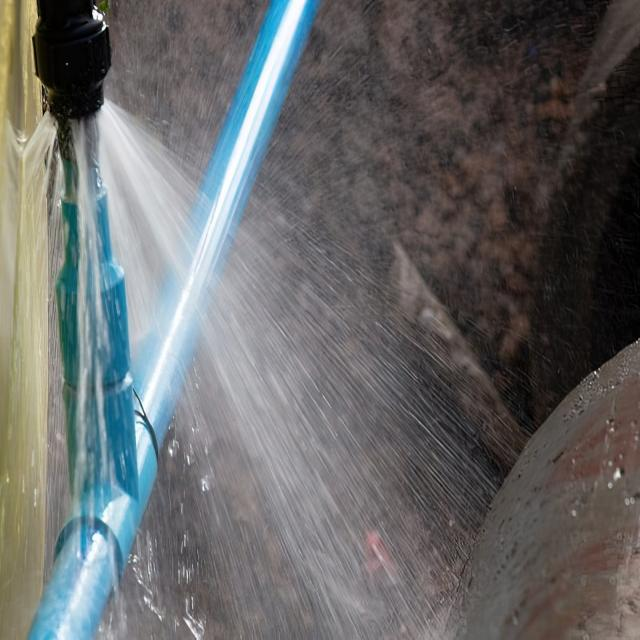leak: (0, 99, 532, 640)
